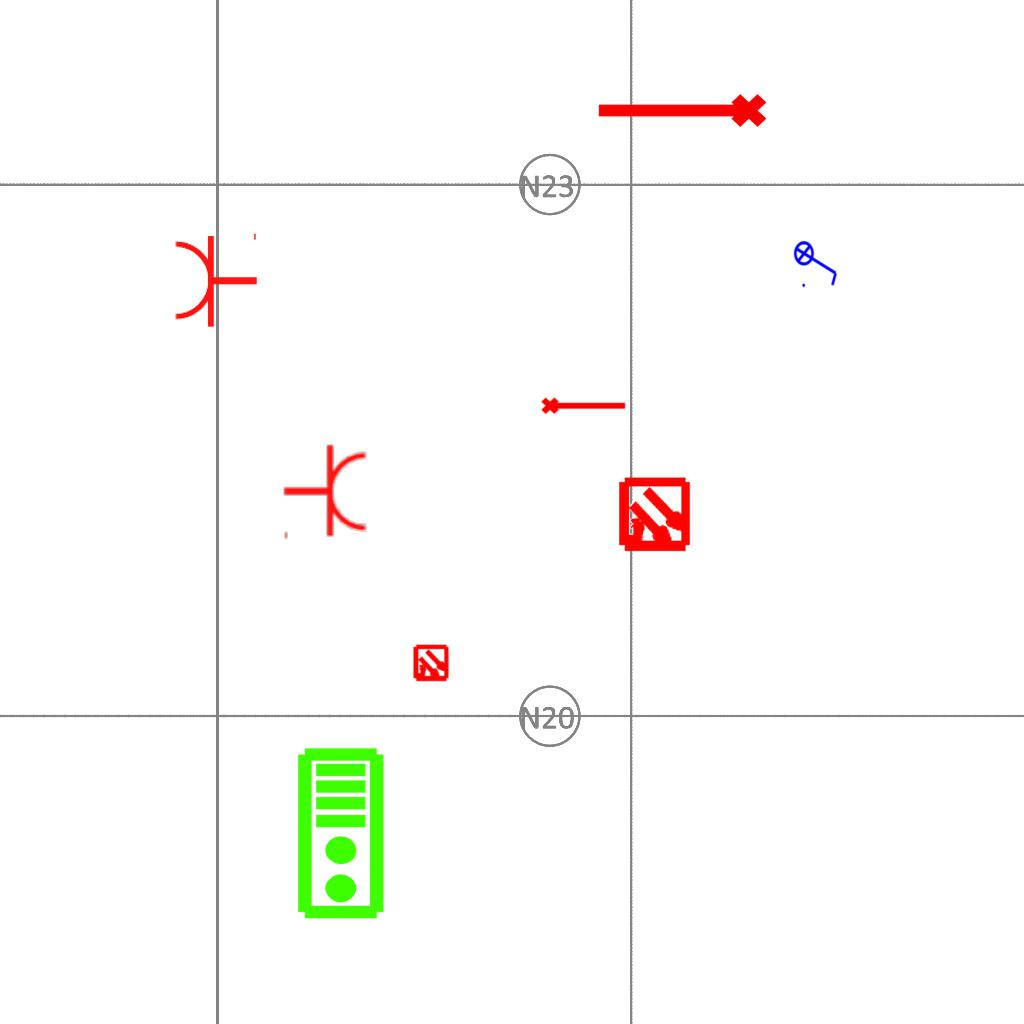ASR_Ansaugoeffnung: (593, 90, 769, 136), (540, 393, 628, 416)
Ausschalter_beleuchtet: (793, 234, 841, 290)
Gegensprechanlage_mit_Video: (295, 746, 390, 922)
OT_Multisensormelder_(Kombination_RMO_WMD): (598, 460, 711, 573), (403, 636, 459, 692)
Schukosteckdose_einfach: (172, 229, 259, 329), (282, 443, 369, 543)
